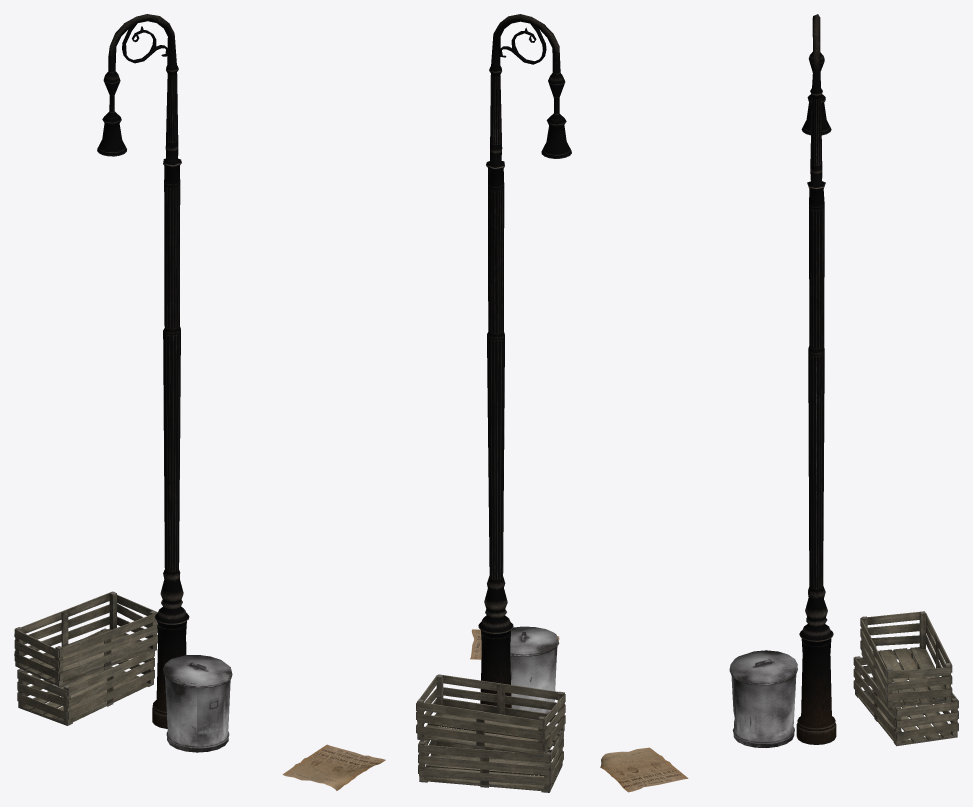
The model's file is scene.lite.glb.
The picture shows the model from 3 angles, left to right: view 1: azimuth 30°, elevation 25°; view 2: azimuth 150°, elevation 25°; view 3: azimuth 270°, elevation 25°; orthographic projection. The views are drawn at different scales.
Visible parts, largest first — view 1: Lamp_1, crate low2_9, kosz lowbake_8, crate low_7, Newspaperbake_4; view 2: Lamp_1, crate low2_9, crate low_7, kosz lowbake_8, Newspaperbake_4; view 3: Lamp_1, crate low2_9, kosz lowbake_8, crate low_7, Newspaperbake_4.
Part boxes in pixels (box(x1,y1,x2,y2)): Lamp_1: box(97, 14, 189, 728); crate low2_9: box(14, 591, 157, 686); kosz lowbake_8: box(163, 655, 232, 752); crate low_7: box(17, 628, 154, 725); Newspaperbake_4: box(282, 744, 385, 790); Lamp_1: box(478, 14, 571, 708); crate low2_9: box(416, 674, 565, 757); crate low_7: box(418, 723, 563, 792); kosz lowbake_8: box(510, 626, 559, 713); Newspaperbake_4: box(470, 629, 559, 659); Lamp_1: box(796, 14, 836, 744); crate low2_9: box(860, 611, 952, 707); kosz lowbake_8: box(729, 650, 797, 747); crate low_7: box(853, 653, 958, 746); Newspaperbake_4: box(600, 747, 688, 792).
Bounding box in the file's own units: 1.98 × 6.06 × 2.77.
Materials: 4 (4 with a texture image).
